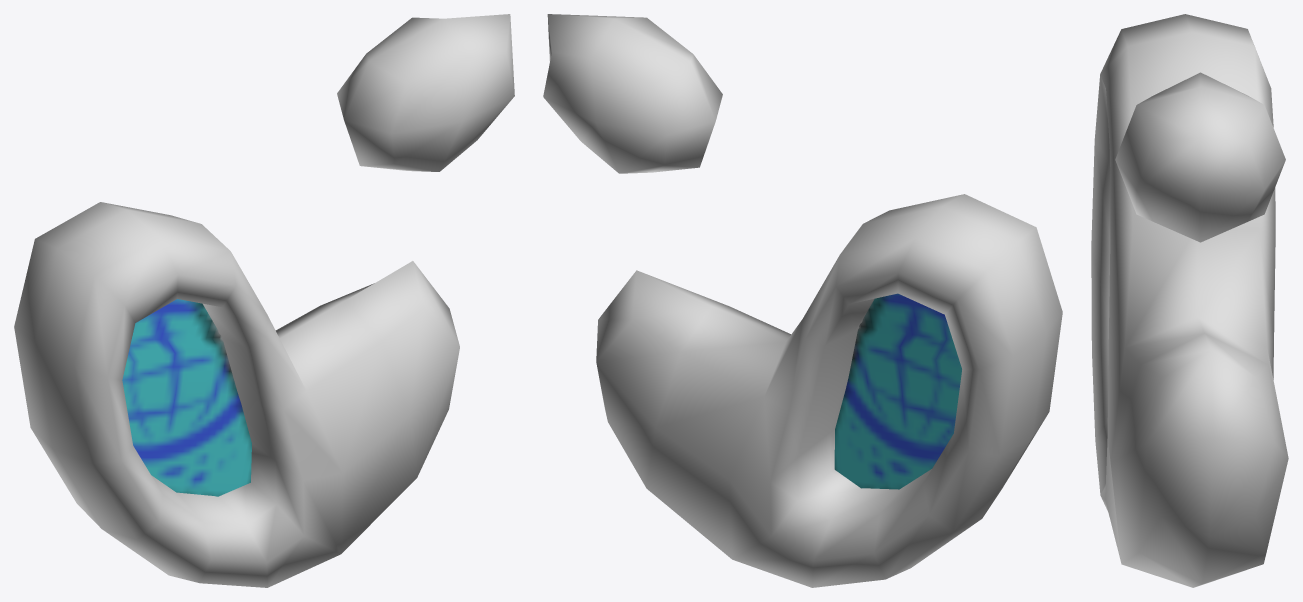
Rendered from SM_Panel_002.fbx.
3 renders of one model, left to right at view 1: azimuth 30°, elevation 25°; view 2: azimuth 150°, elevation 25°; view 3: azimuth 270°, elevation 25°, orthographic. The views are drawn at different scales.
Parts seen in each view (by area): view 1: pasted__polySurface3; view 2: pasted__polySurface3; view 3: pasted__polySurface3.
Part boxes in pixels (<box>): pasted__polySurface3: <box>14,14,514,587</box>; pasted__polySurface3: <box>543,14,1062,587</box>; pasted__polySurface3: <box>1091,14,1288,587</box>.
Bounding box in the file's own units: 3.81 × 3.8 × 1.16.
2 materials, 1 textured.
